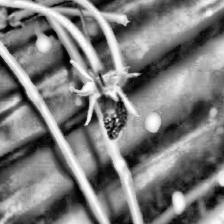Gray Mold: (69, 58, 142, 142)
